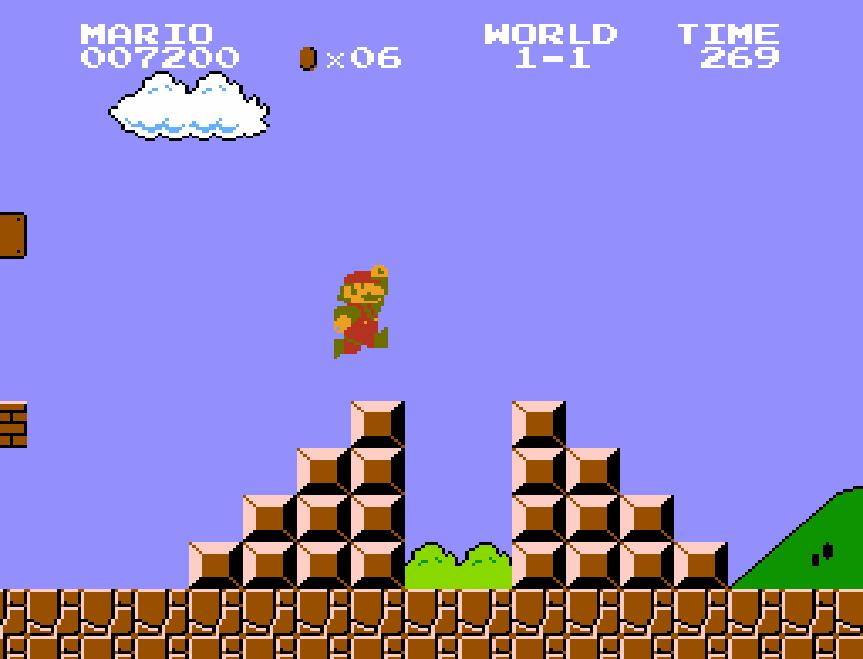big_mario: (332, 263, 390, 361)
